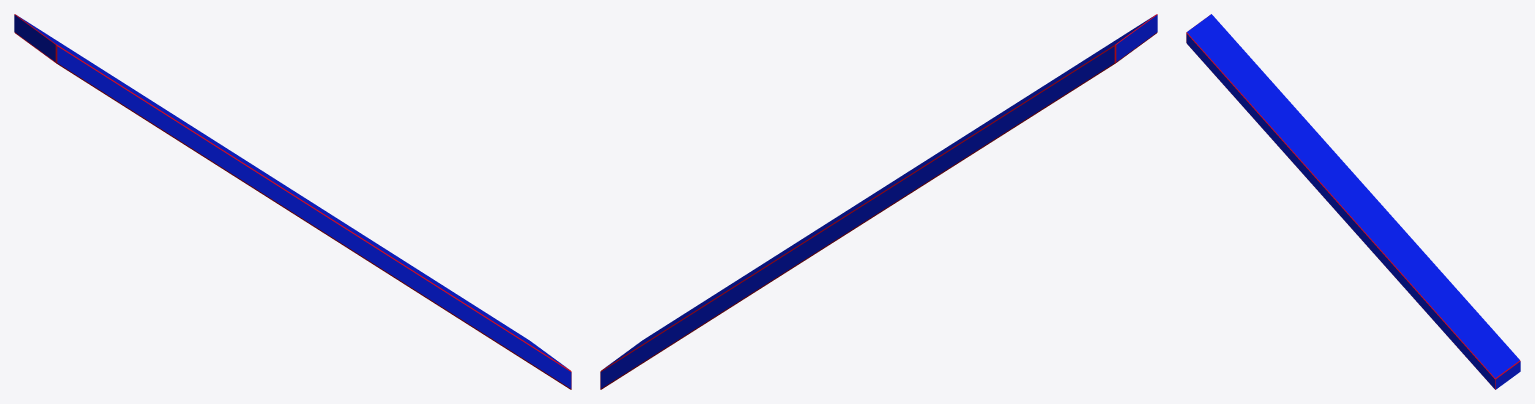
The model's file is L14_Ramp.fbx.
The picture shows the model from 3 angles, left to right: view 1: azimuth 30°, elevation 25°; view 2: azimuth 150°, elevation 25°; view 3: azimuth 330°, elevation 25°; orthographic projection. The views are drawn at different scales.
Parts seen in each view (by area): view 1: L14_Ramp; view 2: L14_Ramp; view 3: L14_Ramp.
Boxes of the visible parts, x1,y1,x2,y2 form: L14_Ramp: [14, 14, 571, 389]; L14_Ramp: [600, 14, 1157, 389]; L14_Ramp: [1186, 14, 1520, 389].
Size of the model in its own units: 2800 by 2444 by 400.
